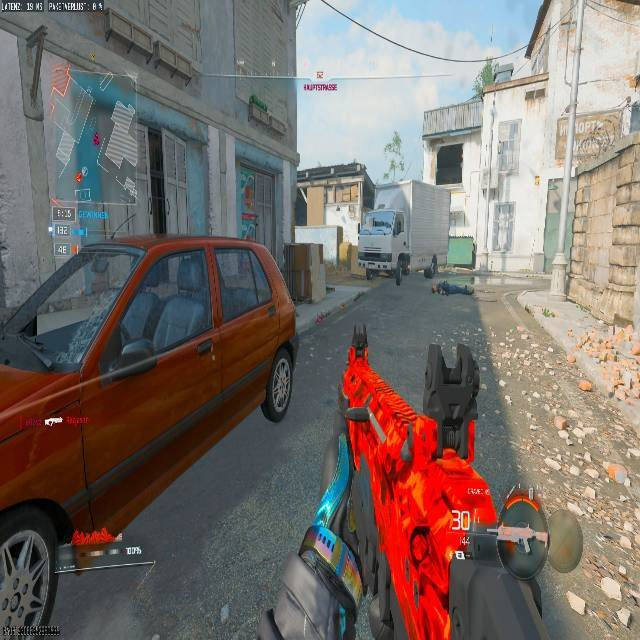player: (430, 254, 437, 270)
